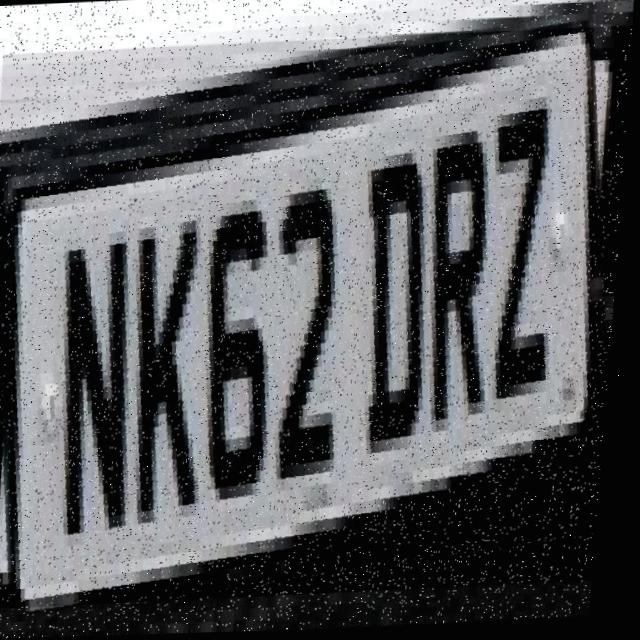LicensePlate: (0, 28, 637, 610)
